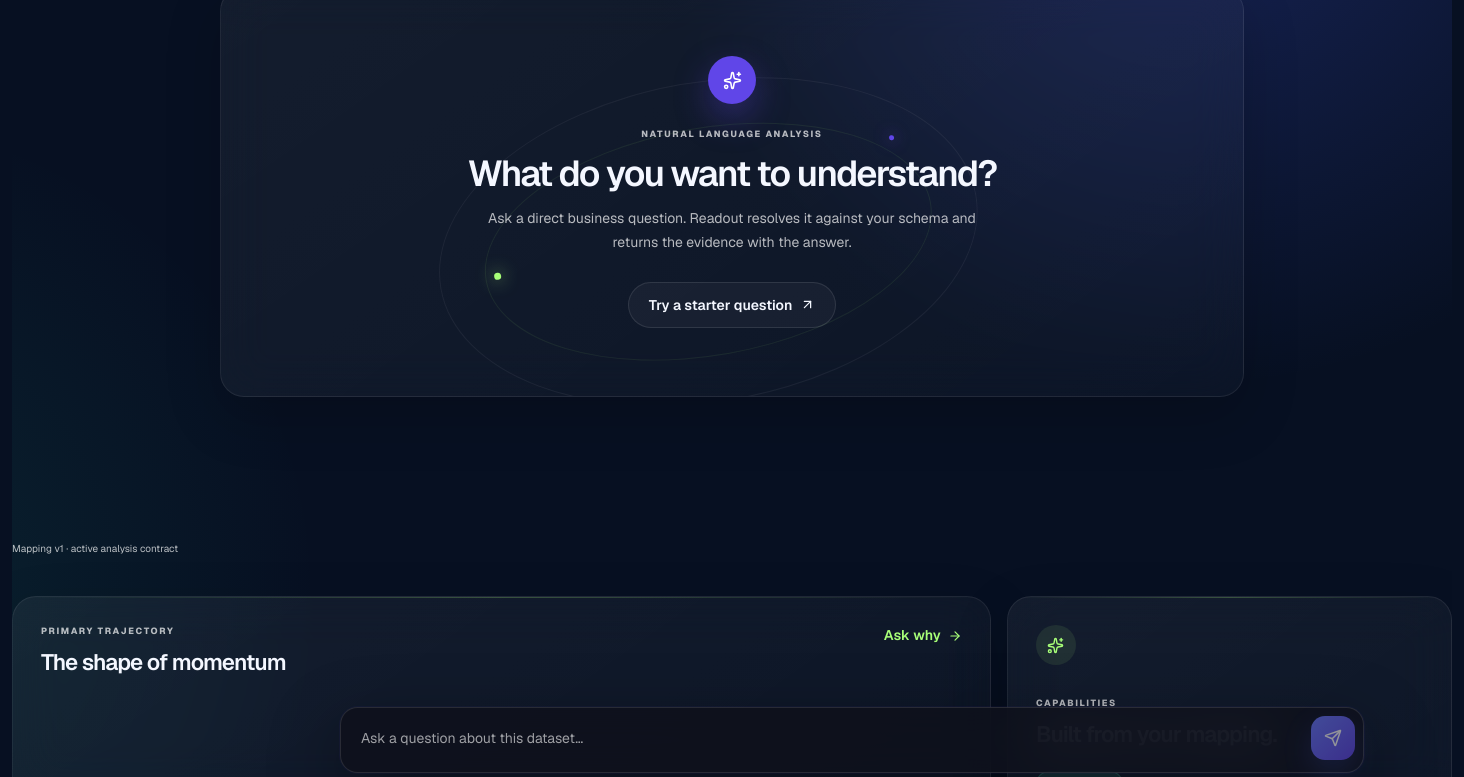
complete product screens › pins an ask chart and refreshes the overview with the new widget
Click the button "Try a starter question": (732, 305) [628,282,836,328]
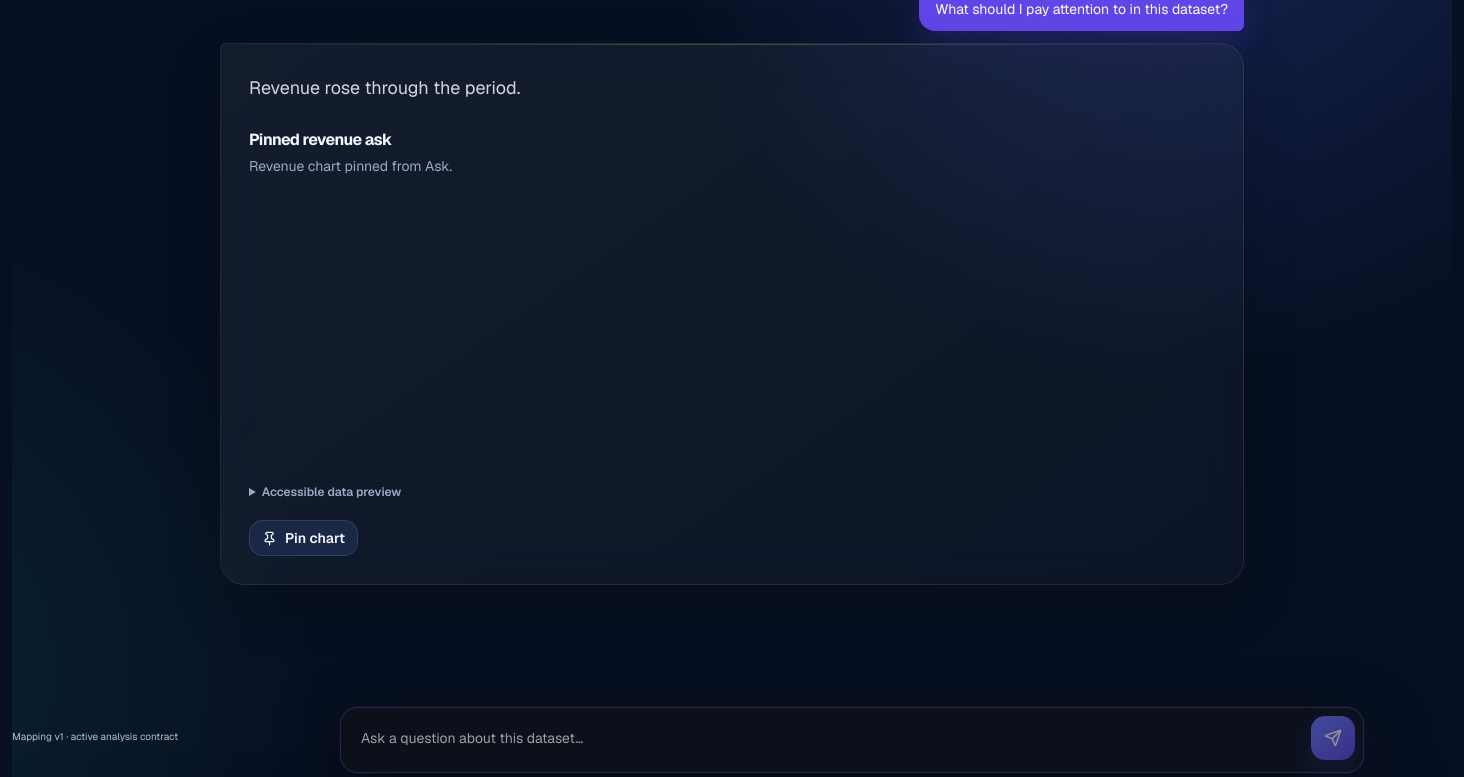
Expected: the text "Revenue rose through the period." is shown, [249,76,520,99]
Click the button "Pin chart": (304, 538) [249,520,358,556]
(page scrolled)
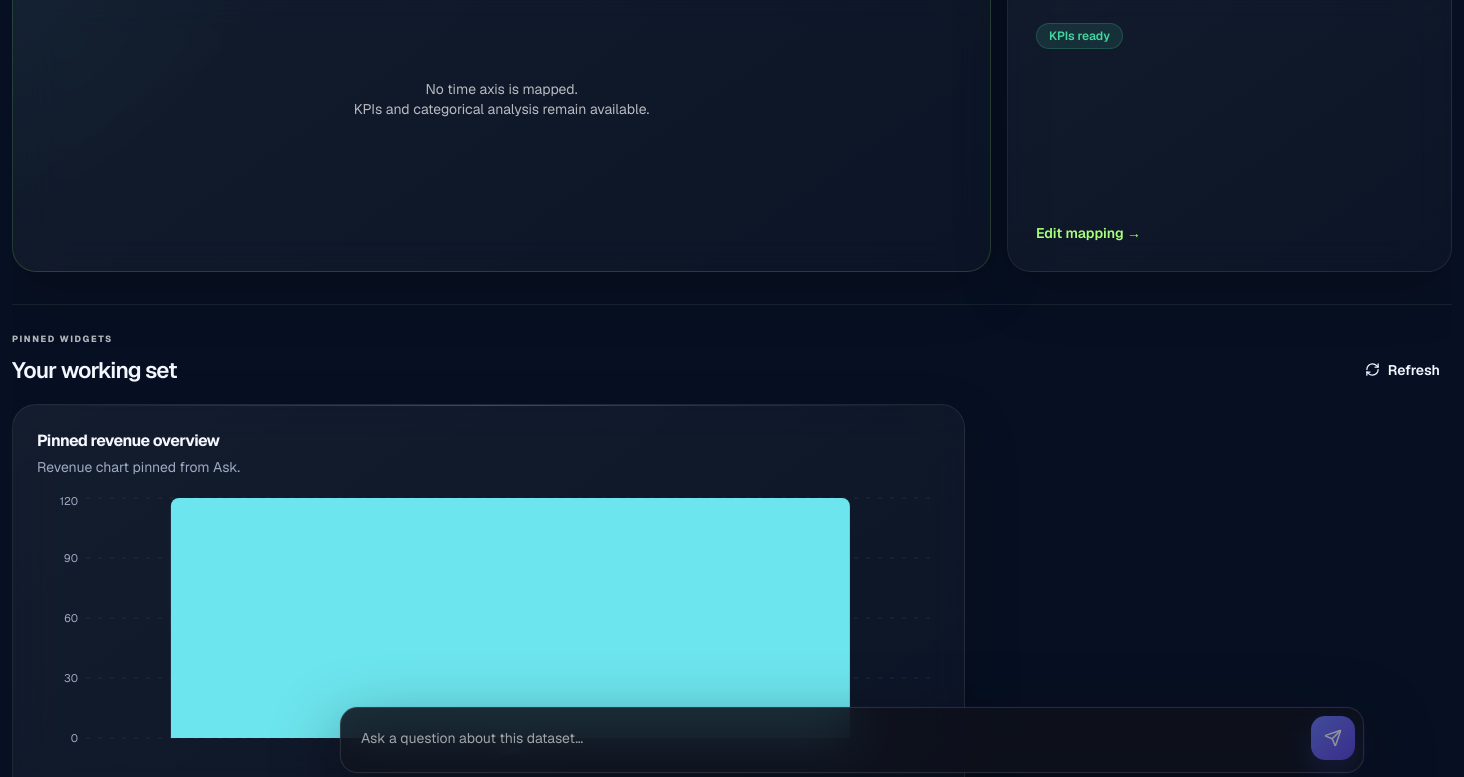
Expected: the heading "Pinned revenue overview" is shown, [37,430,220,451]
